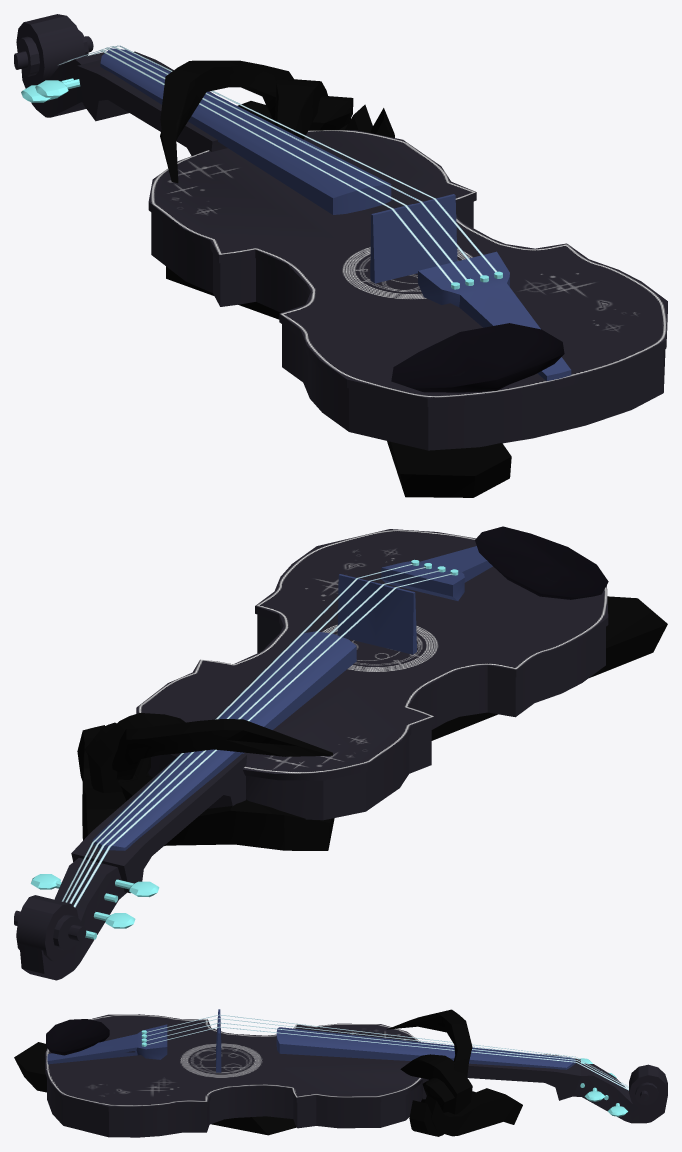
Rendered from violin_body_fbx.FBX.
The picture shows the model from 3 angles, top to bottom: view 1: azimuth 30°, elevation 25°; view 2: azimuth 150°, elevation 25°; view 3: azimuth 270°, elevation 25°; orthographic projection. The views are drawn at different scales.
Visible parts, largest first — view 1: Box001; view 2: Box001; view 3: Box001.
Part boxes in pixels (left/top/right/bottom): Box001: left=14, top=14, right=667, bottom=497; Box001: left=14, top=526, right=667, bottom=980; Box001: left=14, top=1009, right=667, bottom=1137.
Size of the model in its own units: 53.24 by 27.43 by 156.
2 materials, 2 textured.
